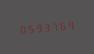five: (25, 21, 32, 35)
four: (65, 18, 72, 31)
nine: (33, 21, 40, 34)
seven: (49, 19, 56, 33)
six: (57, 19, 64, 32)
three: (41, 20, 48, 33)
zero: (17, 22, 24, 35)
